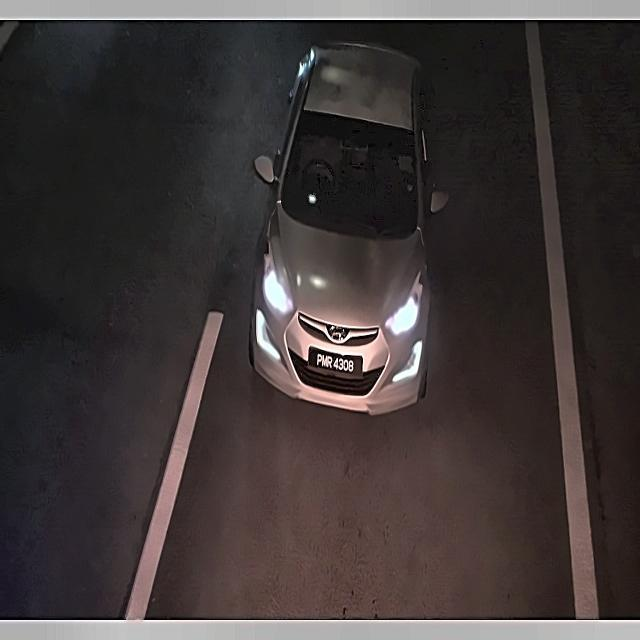car: (307, 342, 366, 383)
